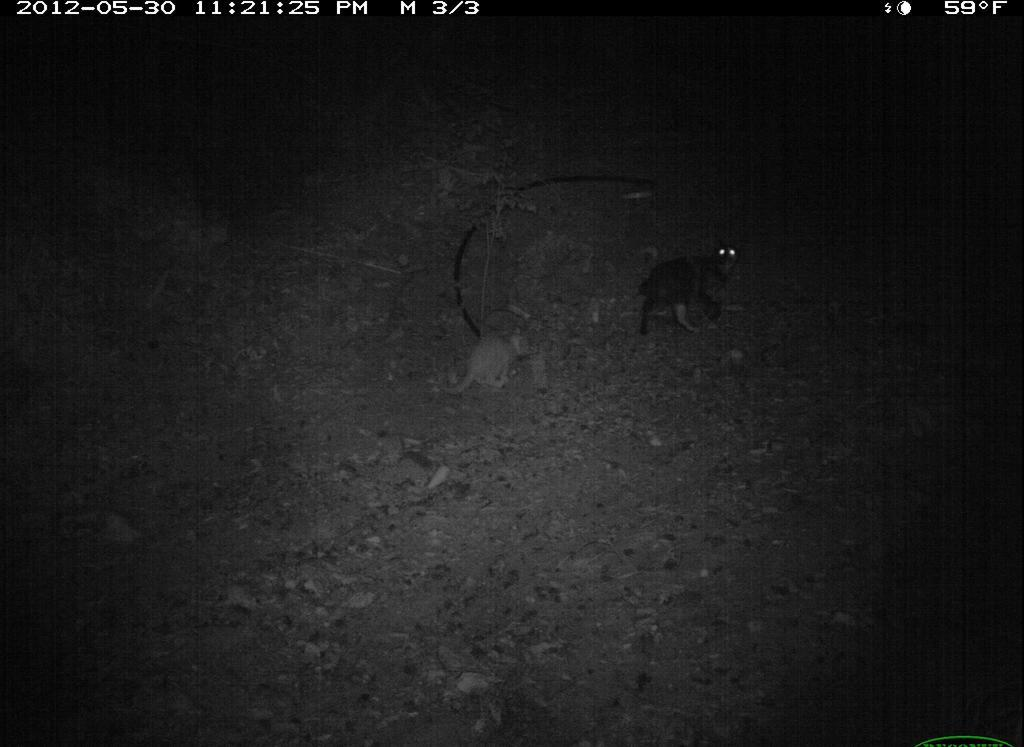cat: (628, 225, 756, 349), (425, 314, 550, 420)
